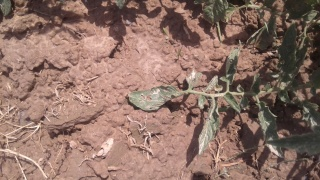tomato diseased leaf: (248, 94, 291, 157), (199, 91, 219, 156), (127, 84, 180, 107)
tomato plant: (205, 2, 315, 136)
